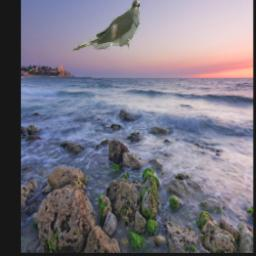Cuckoo: (71, 0, 140, 51)
